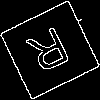R: (25, 25, 77, 83)
